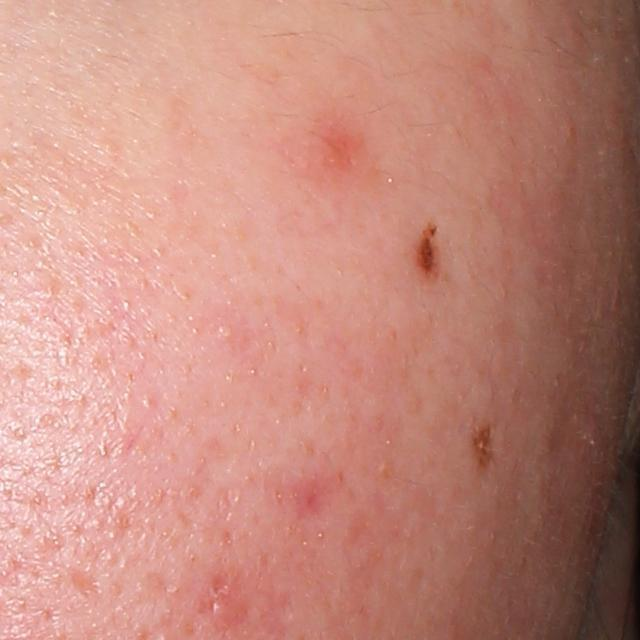atrophic_scar: (62, 565, 106, 602)
nevus: (469, 416, 497, 475), (414, 220, 441, 275)
